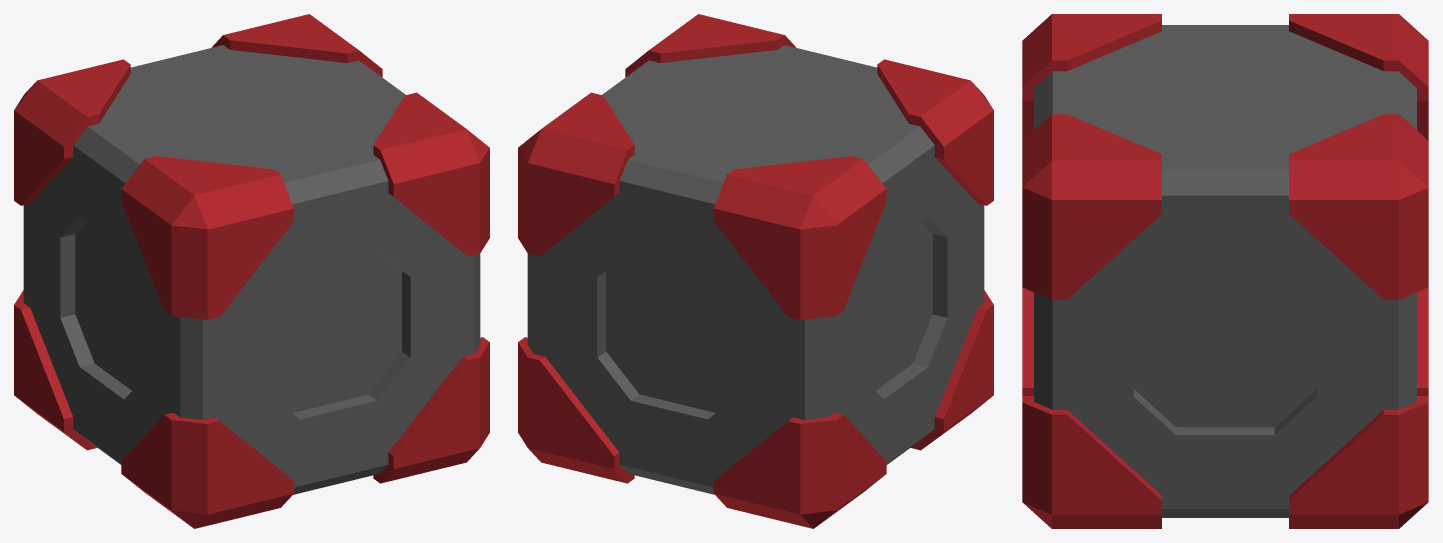
Rendered from EnemyDead_v1.fbx.
3 renders of one model, left to right at view 1: azimuth 30°, elevation 25°; view 2: azimuth 150°, elevation 25°; view 3: azimuth 270°, elevation 25°, orthographic. The views are drawn at different scales.
Visible parts, largest first — view 1: Body-Enemy, Cube; view 2: Body-Enemy, Cube; view 3: Body-Enemy, Cube.
Boxes of the visible parts, box(x1,y1,x2,y2) form: Body-Enemy: box(23, 45, 480, 494); Cube: box(14, 14, 489, 528); Body-Enemy: box(527, 45, 984, 494); Cube: box(518, 14, 993, 528); Body-Enemy: box(1034, 25, 1416, 517); Cube: box(1022, 14, 1428, 528).
Size of the model in its own units: 171 by 171 by 171.
